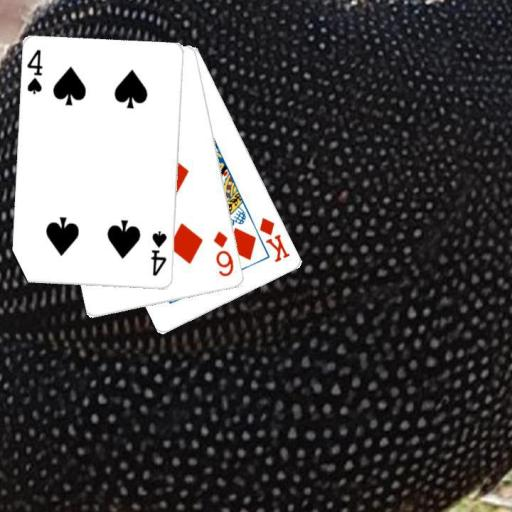4S: (148, 228, 169, 278), (24, 46, 44, 96)
6D: (211, 228, 236, 279)
KD: (256, 214, 292, 264)
